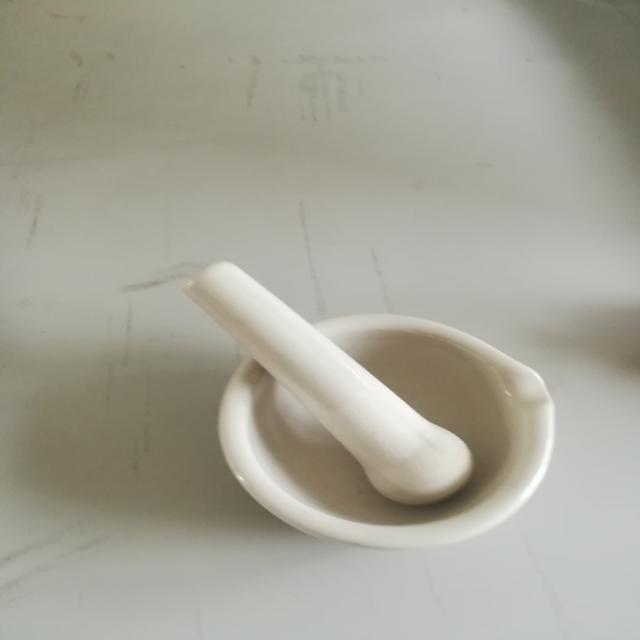Porcelain_Mortar Pestle: (153, 212, 573, 582)
